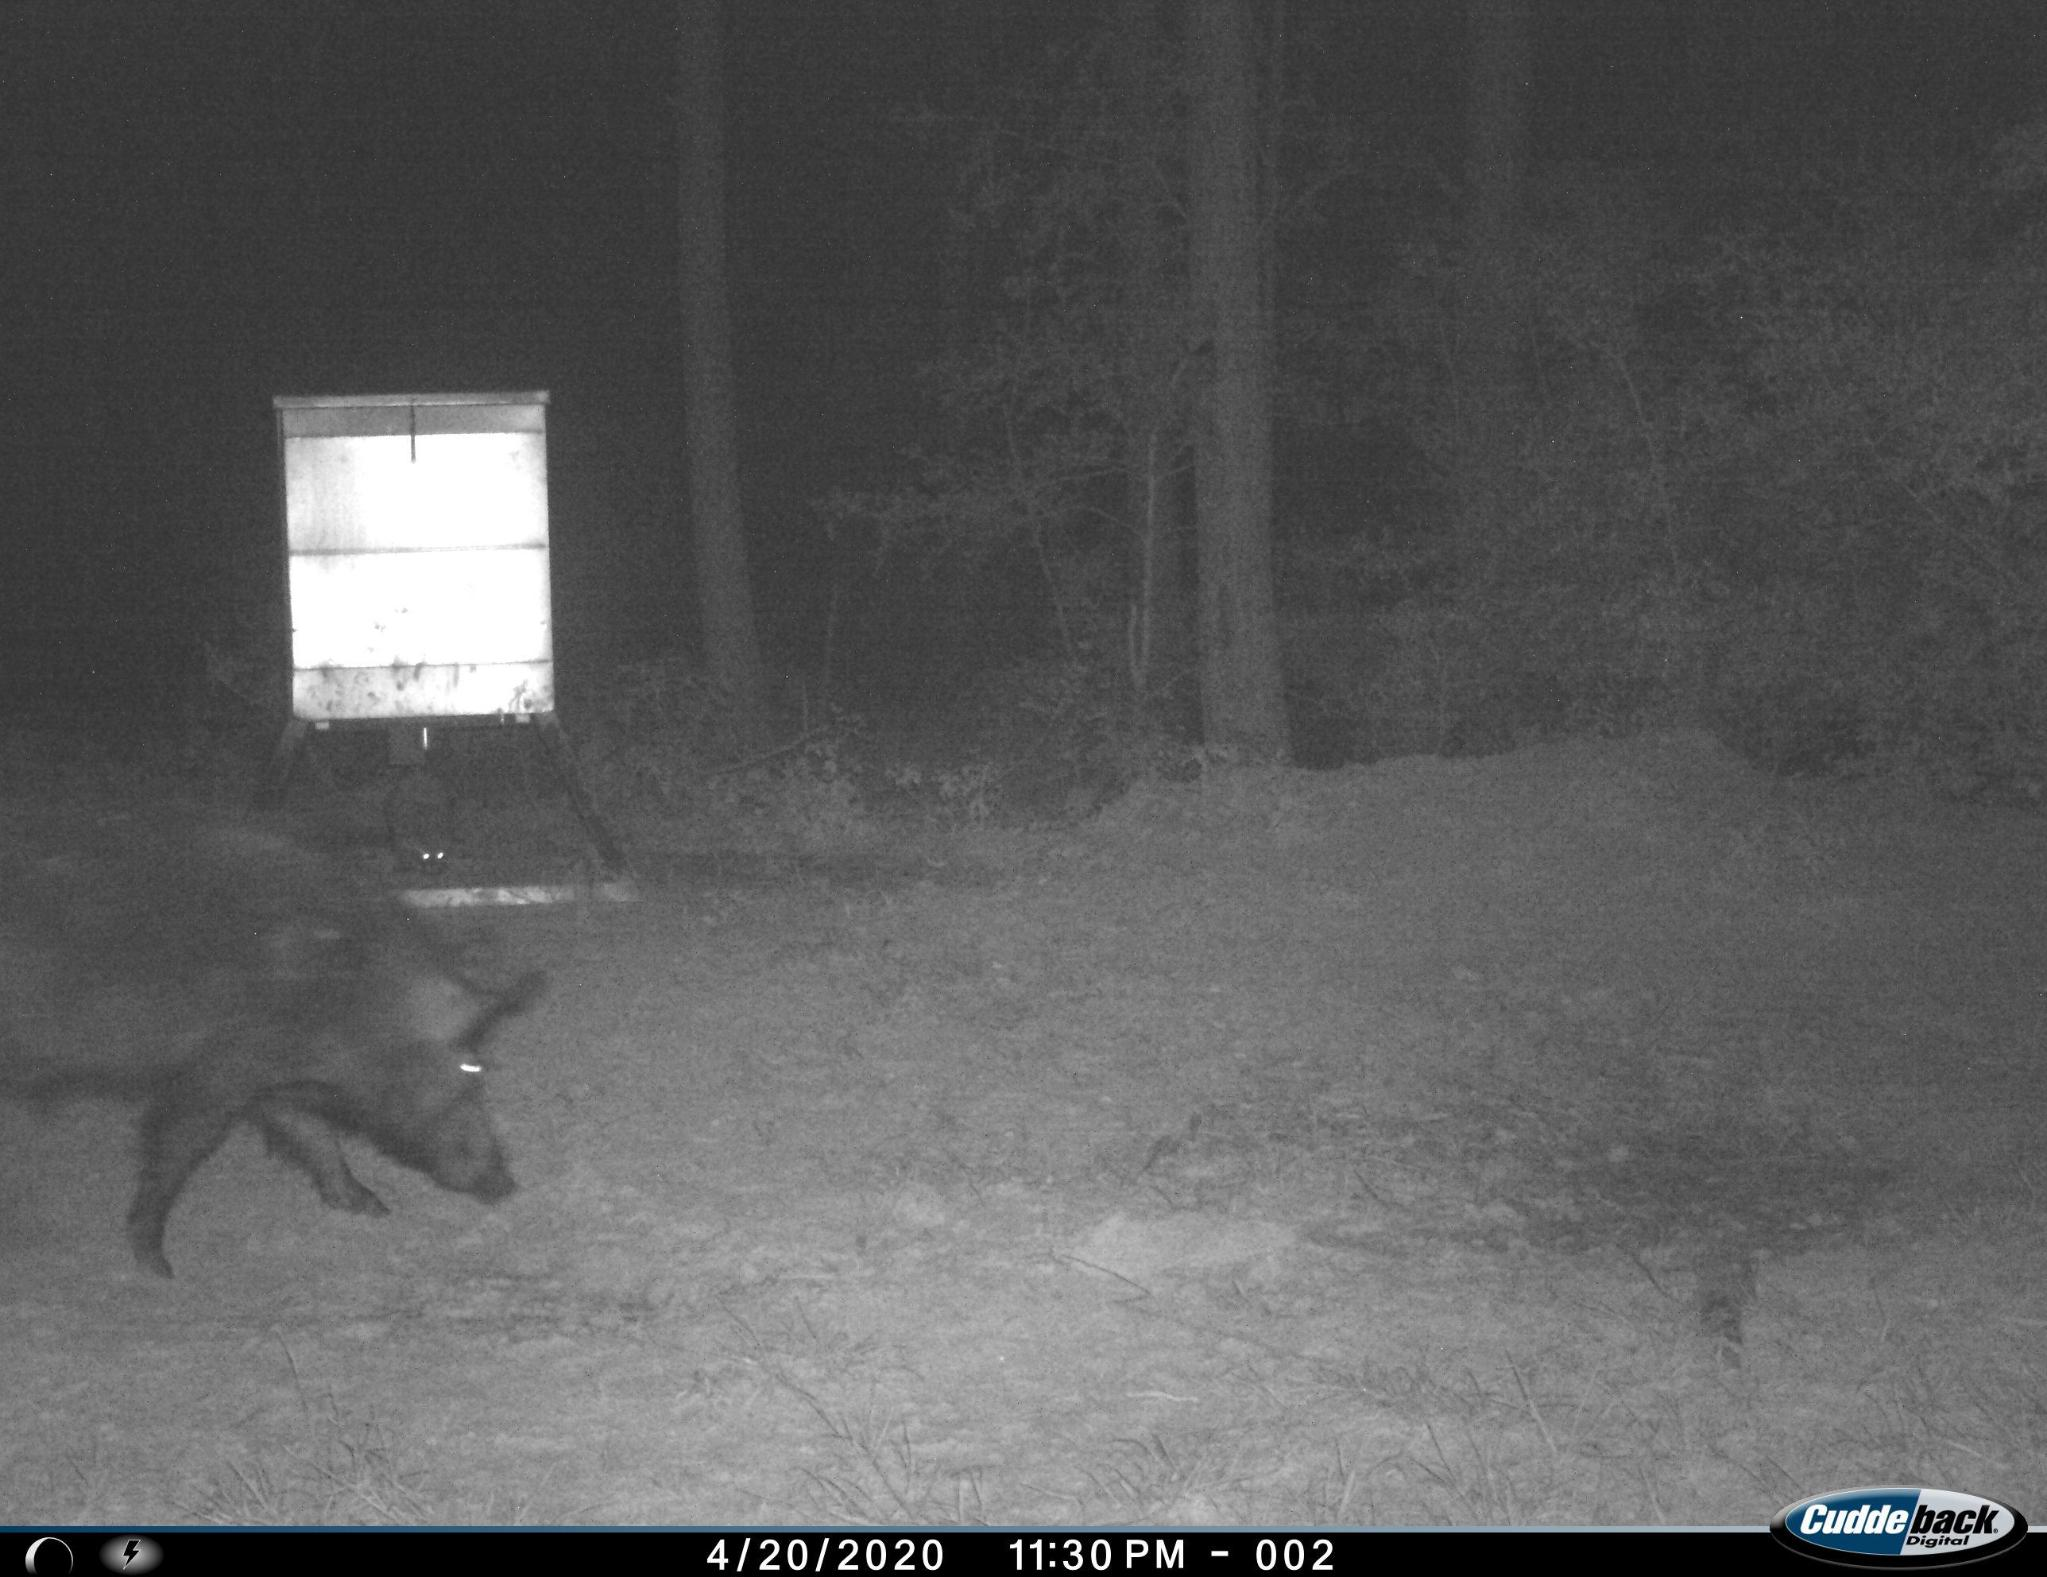Hog: (0, 774, 543, 1292)
